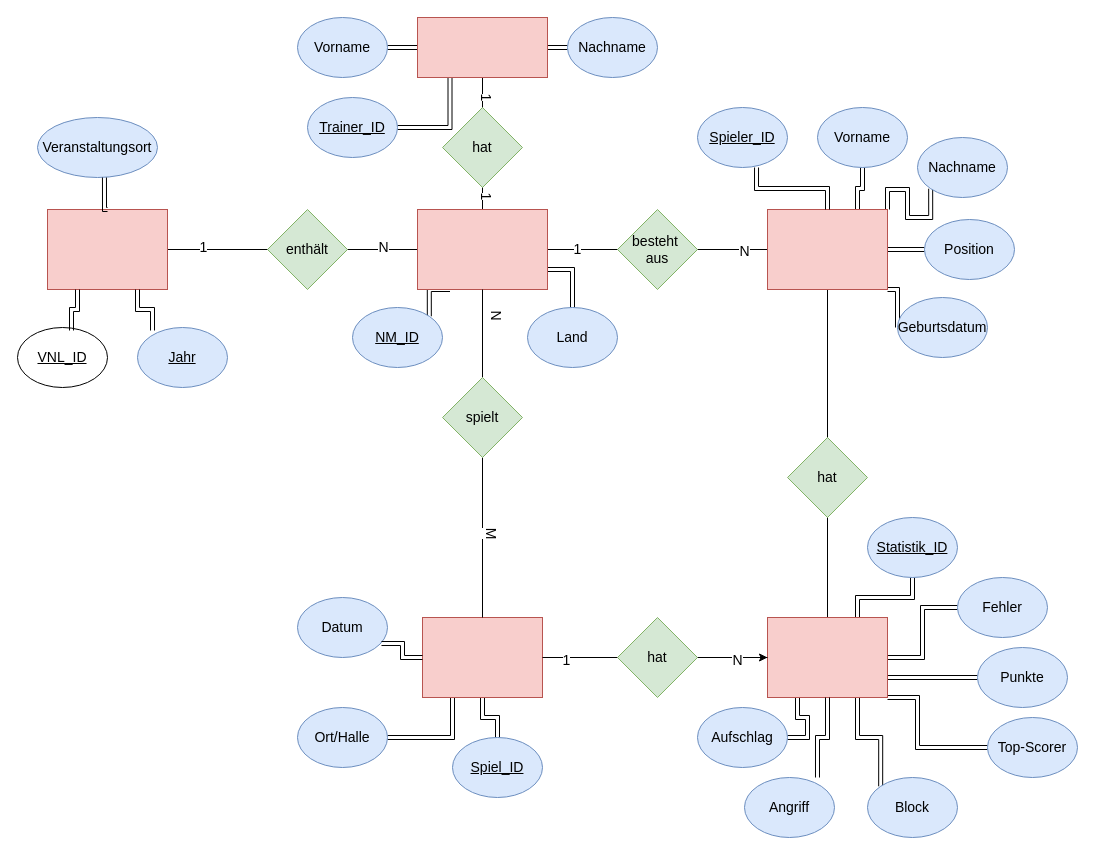
This 1095x855 diagram has some shape labels left out. Here are the shapes that lost their labels. From the top down, the centre of each, then its label:
(x=482, y=47): Trainer
(x=107, y=249): VNL
(x=482, y=249): Nationalmanschaft
(x=827, y=249): Spieler
(x=482, y=657): Spiel
(x=827, y=657): Statistik
